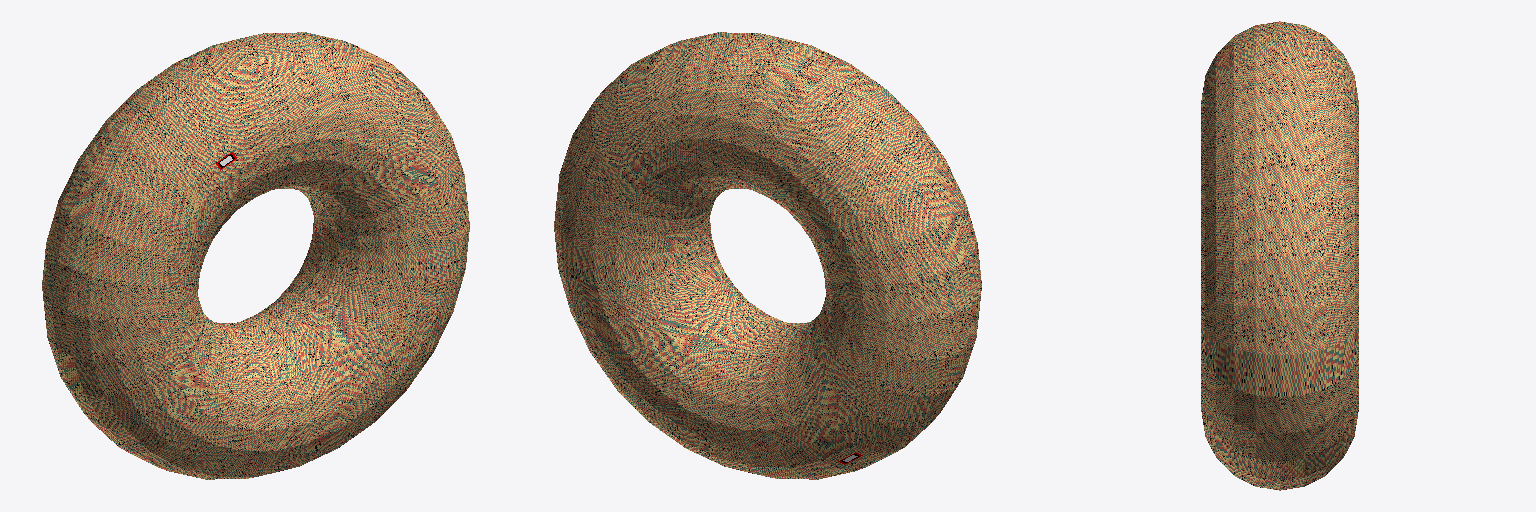
The picture shows the model from 3 angles: view 1: azimuth 30°, elevation 25°; view 2: azimuth 150°, elevation 25°; view 3: azimuth 270°, elevation 25°; orthographic projection.
Bounding box in the file's own units: 3 × 2.98 × 1.
Materials: 1 (1 with a texture image).